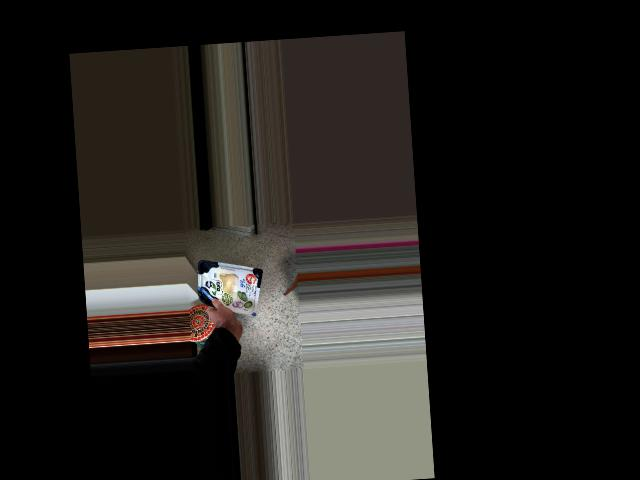cheese: (191, 261, 266, 314)
